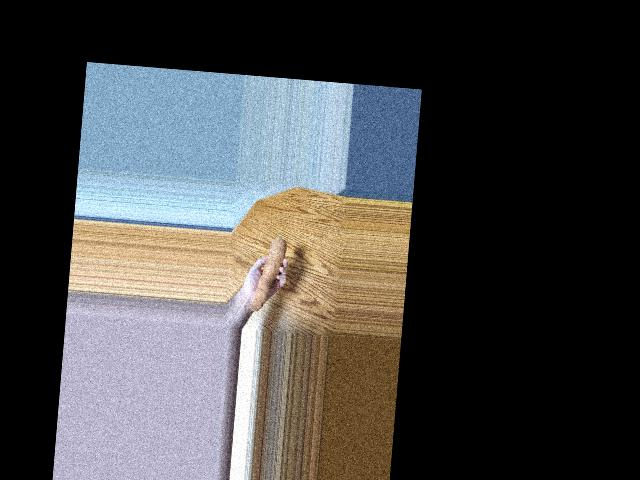sweet_potato: (254, 239, 288, 309)
